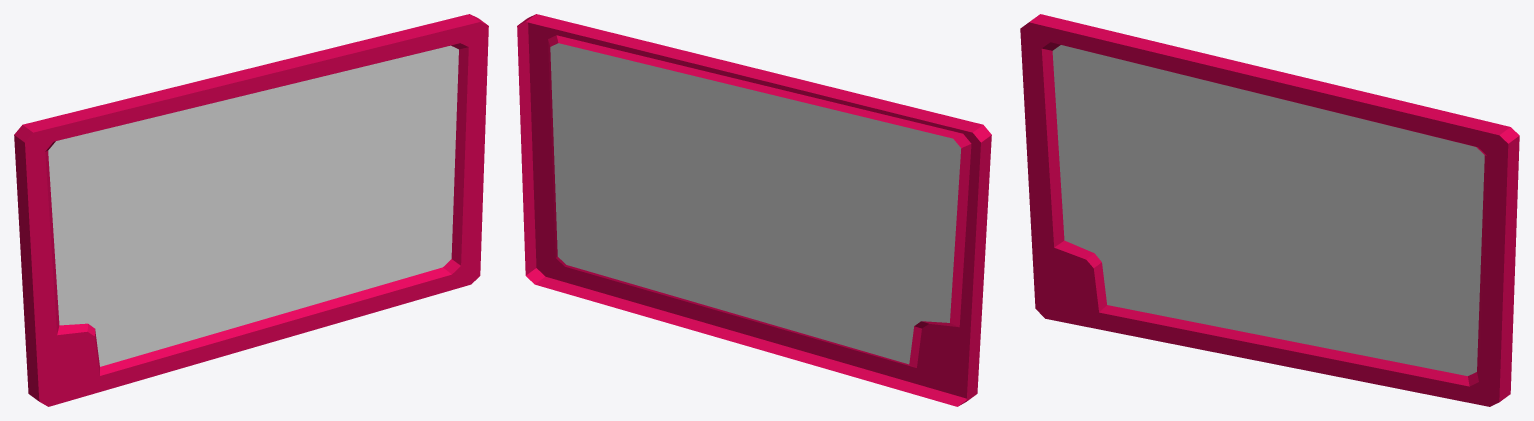
File: SM_Ecran_02.fbx
3 renders of one model, left to right at view 1: azimuth 30°, elevation 25°; view 2: azimuth 150°, elevation 25°; view 3: azimuth 330°, elevation 25°, orthographic. The views are drawn at different scales.
Visible parts, largest first — view 1: SM_Ecran_02; view 2: SM_Ecran_02; view 3: SM_Ecran_02.
Part boxes in pixels (left/top/right/bottom): SM_Ecran_02: left=14, top=14, right=488, bottom=406; SM_Ecran_02: left=517, top=14, right=991, bottom=406; SM_Ecran_02: left=1020, top=14, right=1519, bottom=406.
Bounding box in the file's own units: 4.82 × 2.78 × 0.1949.
